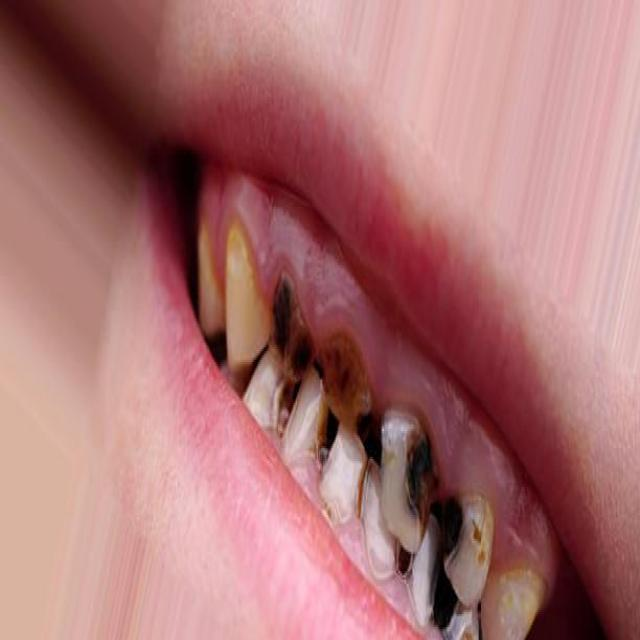caries: (383, 396, 430, 552), (313, 310, 368, 428), (439, 478, 490, 604), (416, 531, 466, 638), (271, 259, 304, 383), (309, 385, 342, 490), (384, 515, 421, 602), (268, 362, 303, 446)
